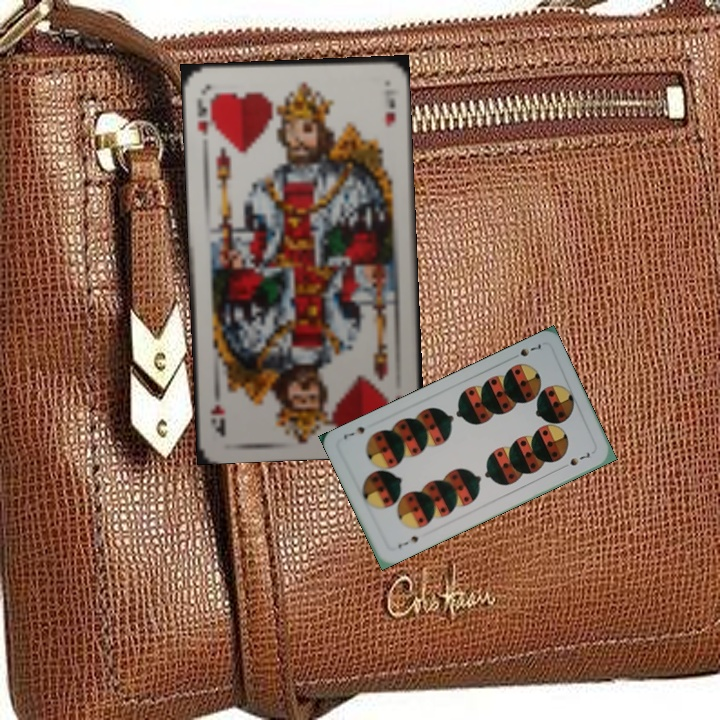HK: (193, 94, 212, 139)
S7: (507, 340, 544, 362), (394, 532, 421, 551)
